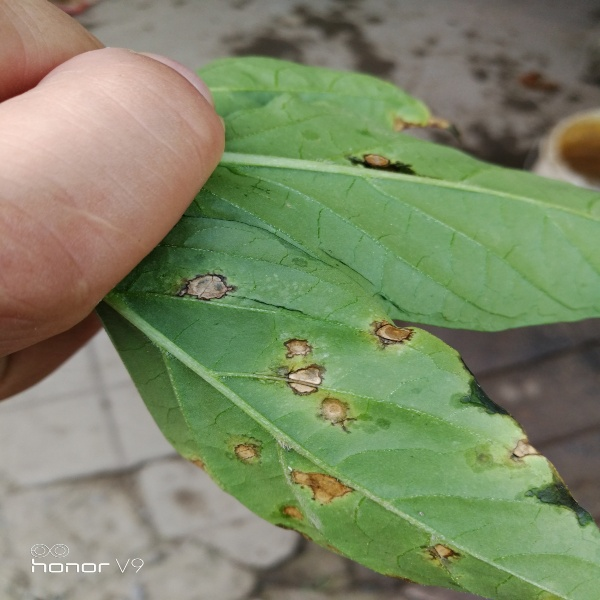Anthrax: (178, 270, 419, 523), (345, 140, 430, 189), (413, 534, 465, 573), (503, 430, 545, 469)
